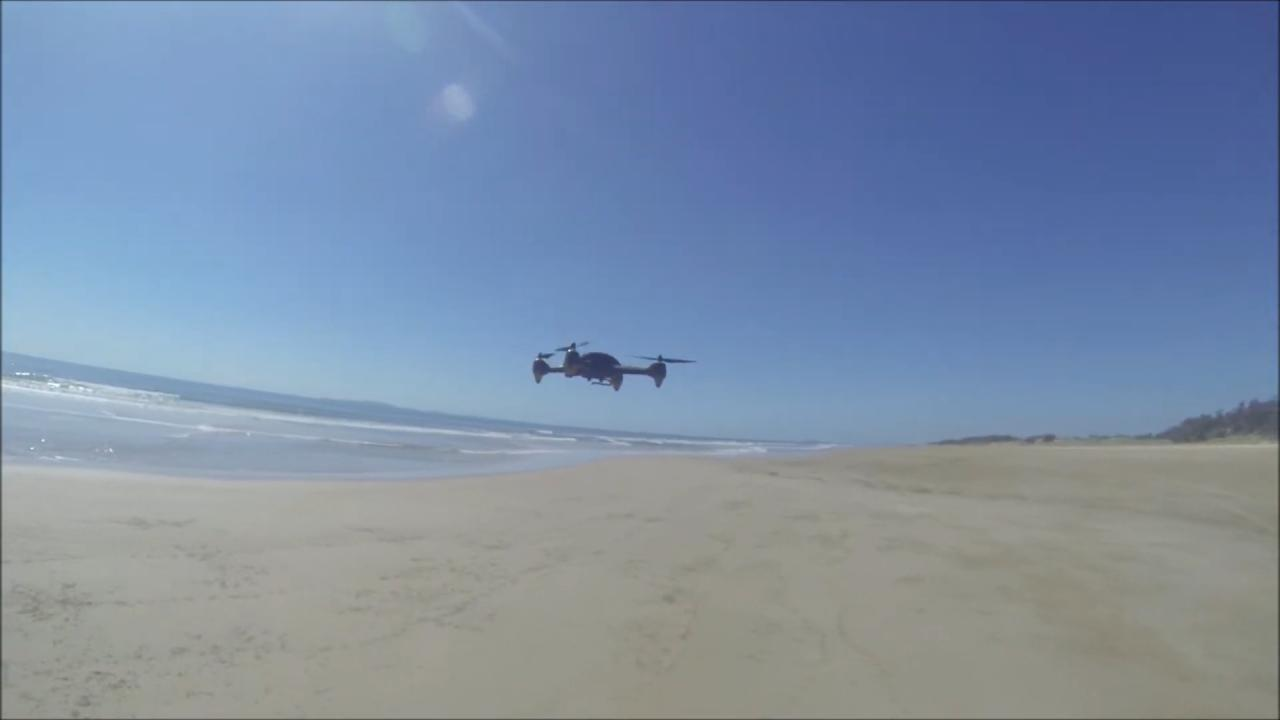Drone: (520, 330, 704, 401)
